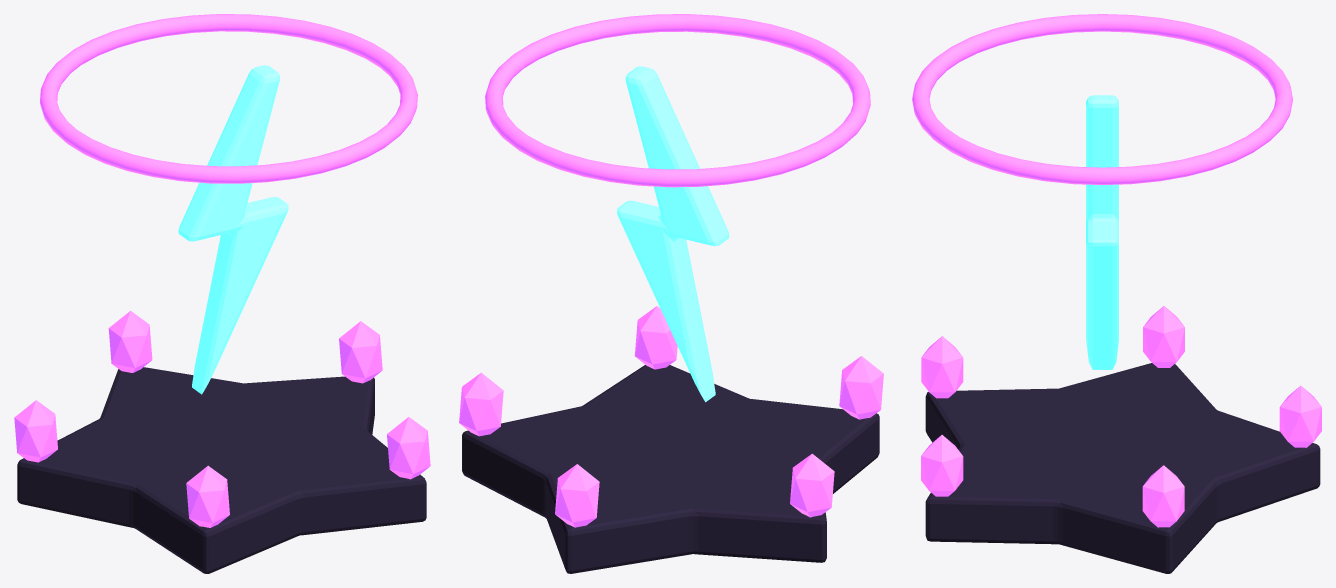
File: pu_speed_up.glb
The picture shows the model from 3 angles, left to right: view 1: azimuth 30°, elevation 25°; view 2: azimuth 150°, elevation 25°; view 3: azimuth 270°, elevation 25°; orthographic projection. The views are drawn at different scales.
Parts seen in each view (by area): view 1: pu_speed_up; view 2: pu_speed_up; view 3: pu_speed_up.
Part boxes in pixels (x1,y1,x2,y2): pu_speed_up: (14, 14, 430, 573); pu_speed_up: (459, 14, 883, 573); pu_speed_up: (912, 14, 1321, 573).
Size of the model in its own units: 0.7653 by 0.82 by 0.7443.
